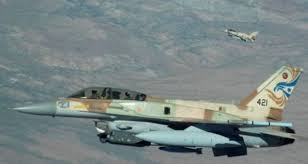fighter: (8, 63, 308, 158), (219, 26, 262, 45)
